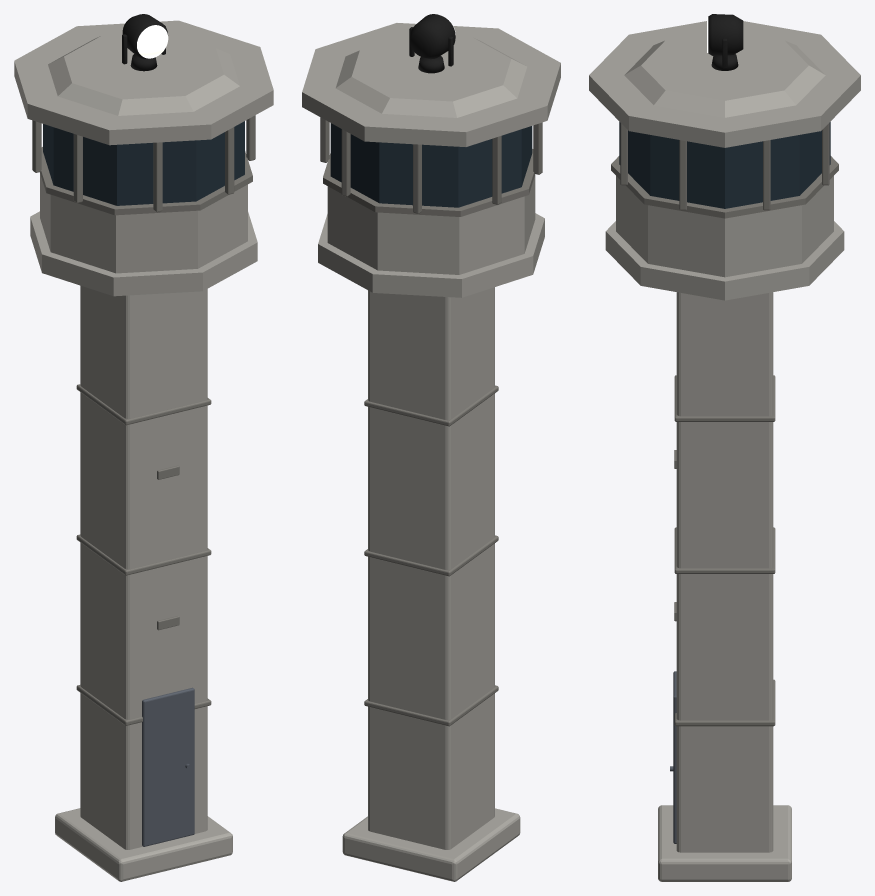
File: Prop_Watchtower.glb
3 views of the same model, side by side, from view 1: azimuth 30°, elevation 25°; view 2: azimuth 150°, elevation 25°; view 3: azimuth 270°, elevation 25° (orthographic).
Parts seen in each view (by area): view 1: Shaft, Cabin, Windows, Door, Mullions, Joints, Sill, Searchlight, SearchlightLens; view 2: Shaft, Cabin, Windows, Mullions, Joints, Sill, Searchlight; view 3: Shaft, Cabin, Windows, Joints, Sill, Mullions, Searchlight, Door.
Part boxes in pixels (bbox=[...]): Shaft: bbox=[55, 285, 232, 881]; Cabin: bbox=[14, 20, 273, 296]; Windows: bbox=[43, 121, 244, 205]; Door: bbox=[142, 687, 194, 846]; Mullions: bbox=[32, 115, 255, 212]; Joints: bbox=[76, 384, 211, 725]; Sill: bbox=[40, 147, 252, 215]; Searchlight: bbox=[122, 14, 167, 71]; SearchlightLens: bbox=[137, 25, 168, 58]; Shaft: bbox=[342, 287, 520, 881]; Cabin: bbox=[302, 23, 560, 297]; Windows: bbox=[330, 123, 532, 207]; Mullions: bbox=[320, 117, 542, 213]; Joints: bbox=[364, 385, 498, 726]; Sill: bbox=[323, 149, 535, 216]; Searchlight: bbox=[409, 14, 455, 73]; Shaft: bbox=[658, 292, 791, 881]; Cabin: bbox=[589, 21, 860, 300]; Windows: bbox=[619, 122, 830, 208]; Joints: bbox=[674, 375, 775, 726]; Sill: bbox=[611, 156, 838, 218]; Mullions: bbox=[620, 123, 829, 210]; Searchlight: bbox=[708, 14, 743, 70]; Door: bbox=[670, 671, 676, 843].
Bounding box in the file's own units: 3.24 × 11.03 × 3.24.
